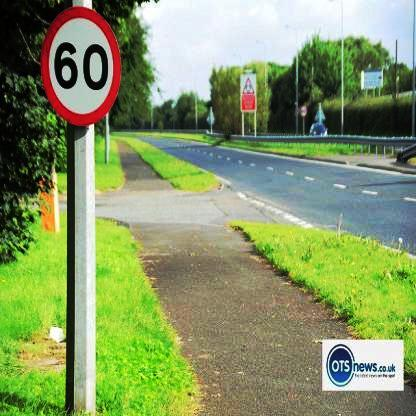Speed Limit -60-: (39, 1, 125, 124)
